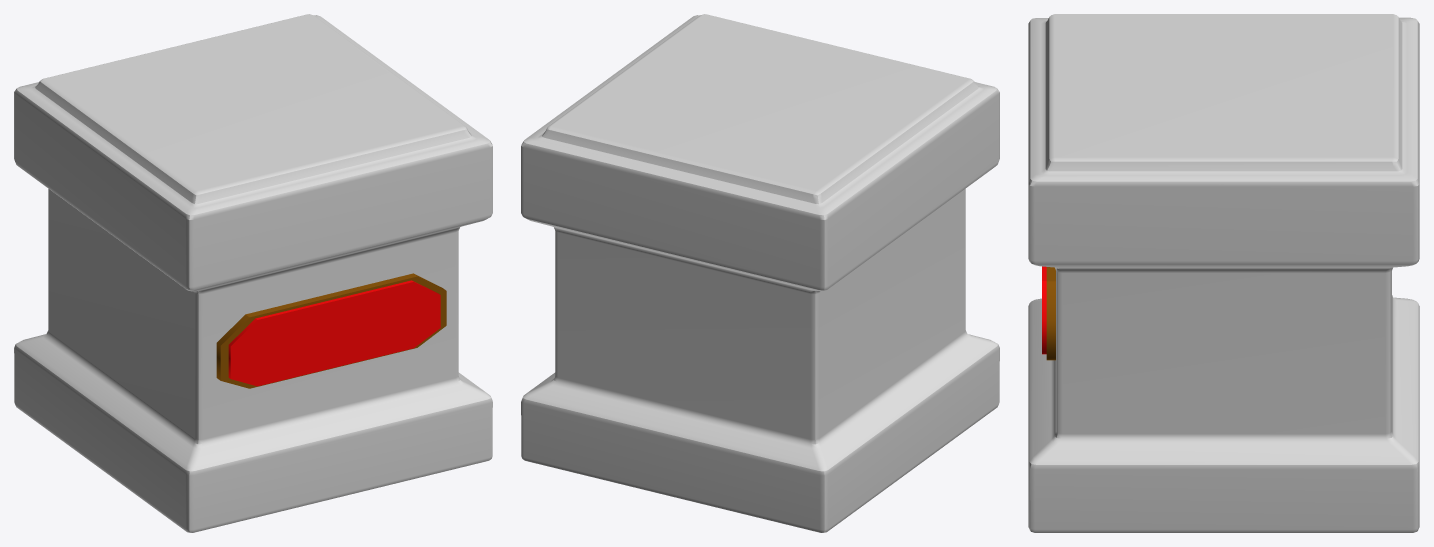
Rendered from base piedra (armadura).fbx.
The picture shows the model from 3 angles, left to right: view 1: azimuth 30°, elevation 25°; view 2: azimuth 150°, elevation 25°; view 3: azimuth 270°, elevation 25°; orthographic projection. The views are drawn at different scales.
Parts seen in each view (by area): view 1: Base_armadura; view 2: Base_armadura; view 3: Base_armadura.
Part boxes in pixels (box(x1,y1,x2,y2)): Base_armadura: box(14, 14, 492, 532); Base_armadura: box(521, 14, 999, 532); Base_armadura: box(1028, 14, 1419, 532).
Size of the model in its own units: 100 by 103 by 100.
